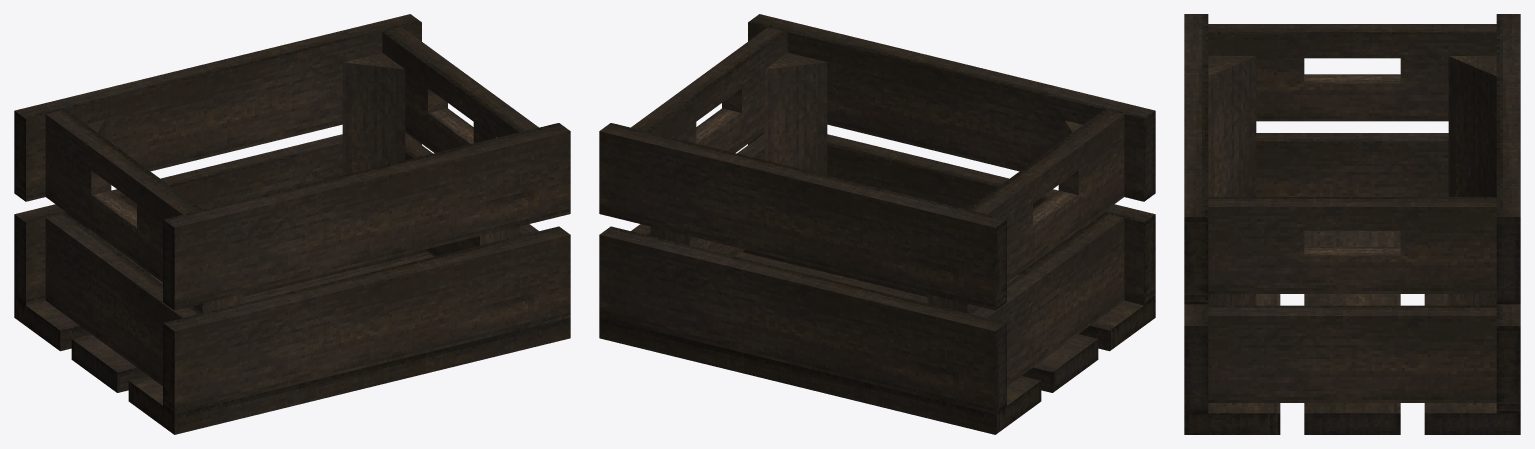
File: wooden_crate_1.glb
The picture shows the model from 3 angles, left to right: view 1: azimuth 30°, elevation 25°; view 2: azimuth 150°, elevation 25°; view 3: azimuth 270°, elevation 25°; orthographic projection. The views are drawn at different scales.
Visible parts, largest first — view 1: wooden_crate_1; view 2: wooden_crate_1; view 3: wooden_crate_1.
Part boxes in pixels (left/top/right/bottom): wooden_crate_1: left=14, top=14, right=570, bottom=434; wooden_crate_1: left=599, top=14, right=1155, bottom=434; wooden_crate_1: left=1184, top=14, right=1520, bottom=434.
Bounding box in the file's own units: 0.72 × 0.36 × 0.504.
Materials: 1 (1 with a texture image).
